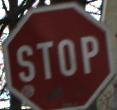Stop sign: (0, 0, 116, 109)
